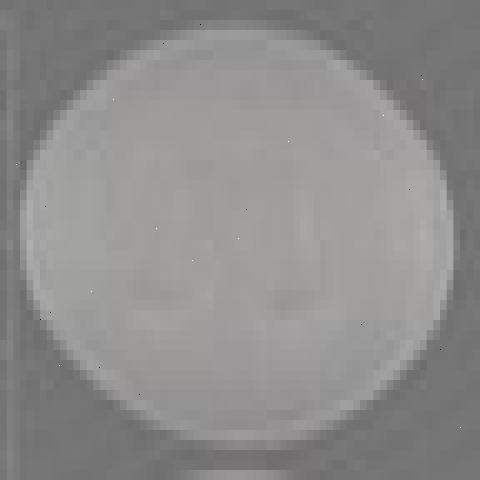Pill: (8, 15, 469, 452)
